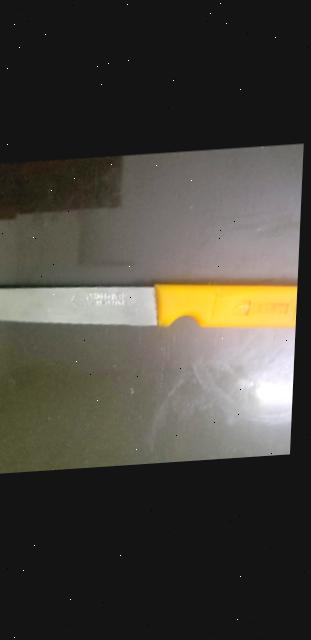long knife: (0, 261, 301, 368)
